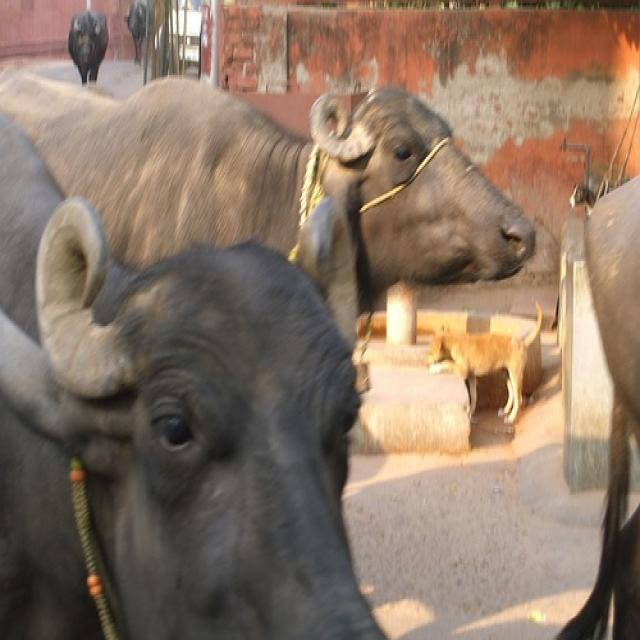cow: (0, 107, 385, 638), (0, 73, 535, 304), (564, 172, 638, 638), (67, 2, 110, 84), (123, 0, 150, 60)
dog: (429, 304, 544, 425)
